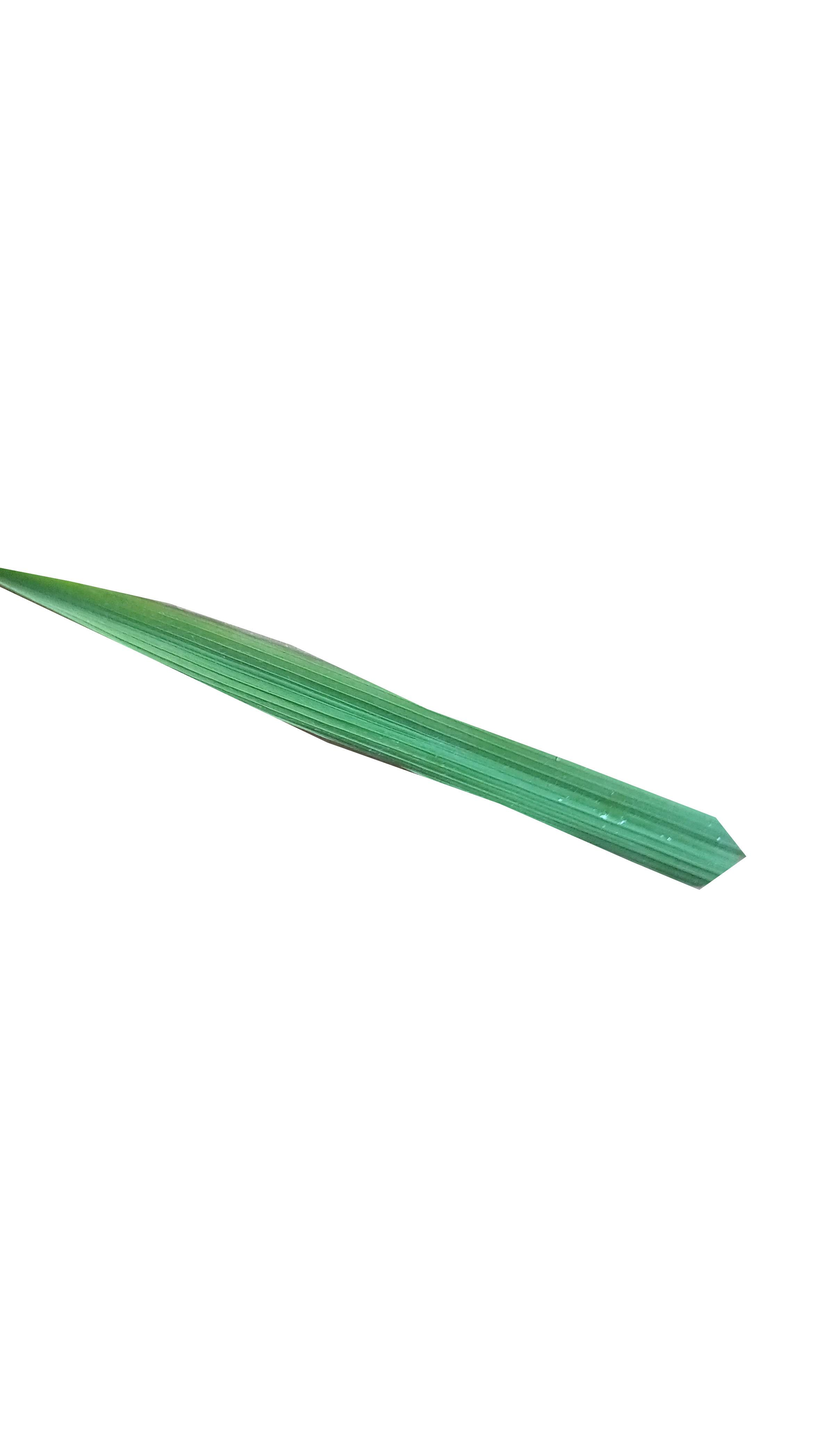Healthy: (0, 568, 745, 894)
